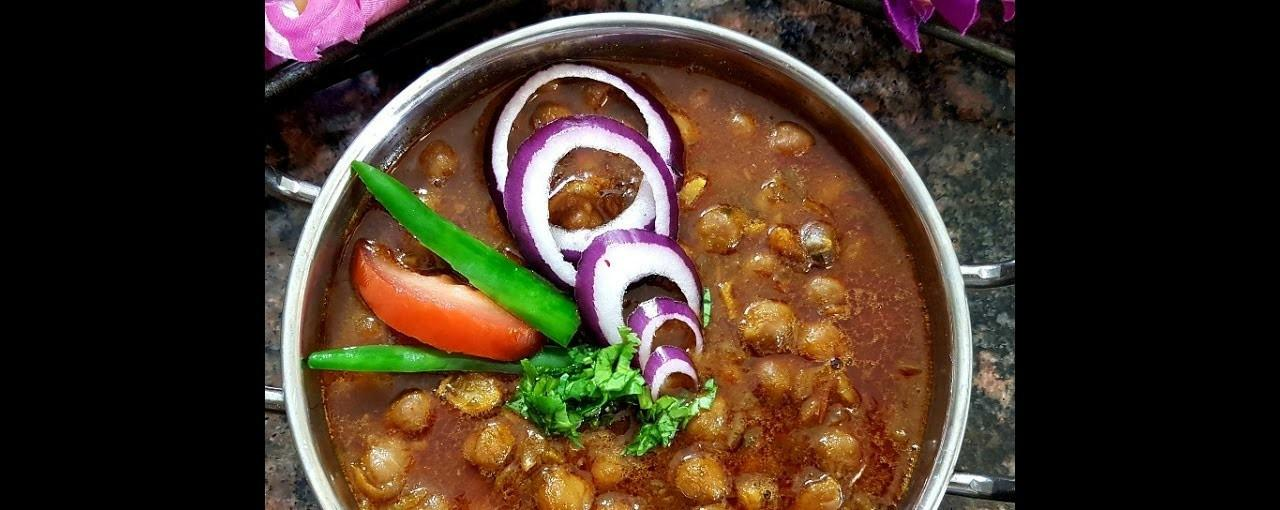Chole: (319, 53, 933, 510)
